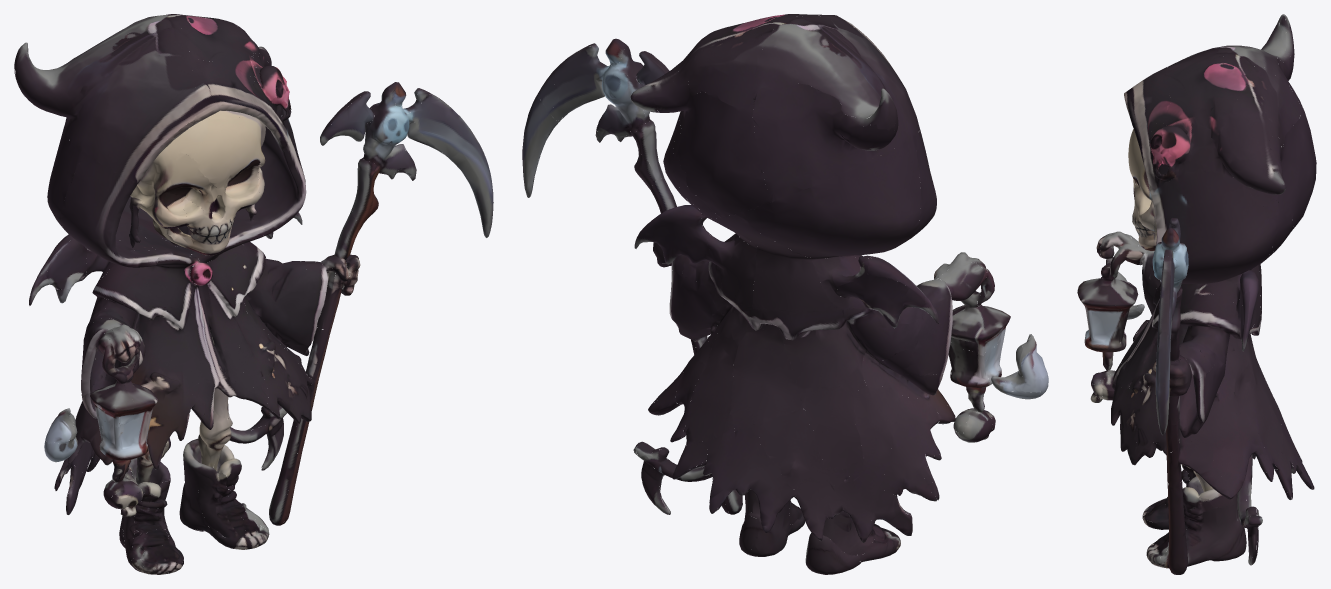
The model's file is reaper-mobile.glb.
3 views of the same model, side by side, from view 1: azimuth 30°, elevation 25°; view 2: azimuth 150°, elevation 25°; view 3: azimuth 270°, elevation 25° (orthographic). The views are drawn at different scales.
Parts seen in each view (by area): view 1: tripo_node_7e8b02c5-f809-4e2a-9356-34e4eeda2af9; view 2: tripo_node_7e8b02c5-f809-4e2a-9356-34e4eeda2af9; view 3: tripo_node_7e8b02c5-f809-4e2a-9356-34e4eeda2af9.
Boxes of the visible parts, x1,y1,x2,y2 form: tripo_node_7e8b02c5-f809-4e2a-9356-34e4eeda2af9: [14, 14, 493, 574]; tripo_node_7e8b02c5-f809-4e2a-9356-34e4eeda2af9: [522, 14, 1048, 574]; tripo_node_7e8b02c5-f809-4e2a-9356-34e4eeda2af9: [1077, 14, 1316, 574].
Size of the model in its own units: 0.9576 by 1 by 0.4414.
1 material, 1 textured.
